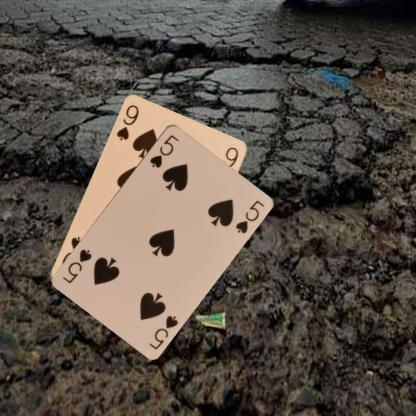5s: (146, 312, 180, 351), (146, 132, 180, 168)
9s: (114, 100, 140, 142)
